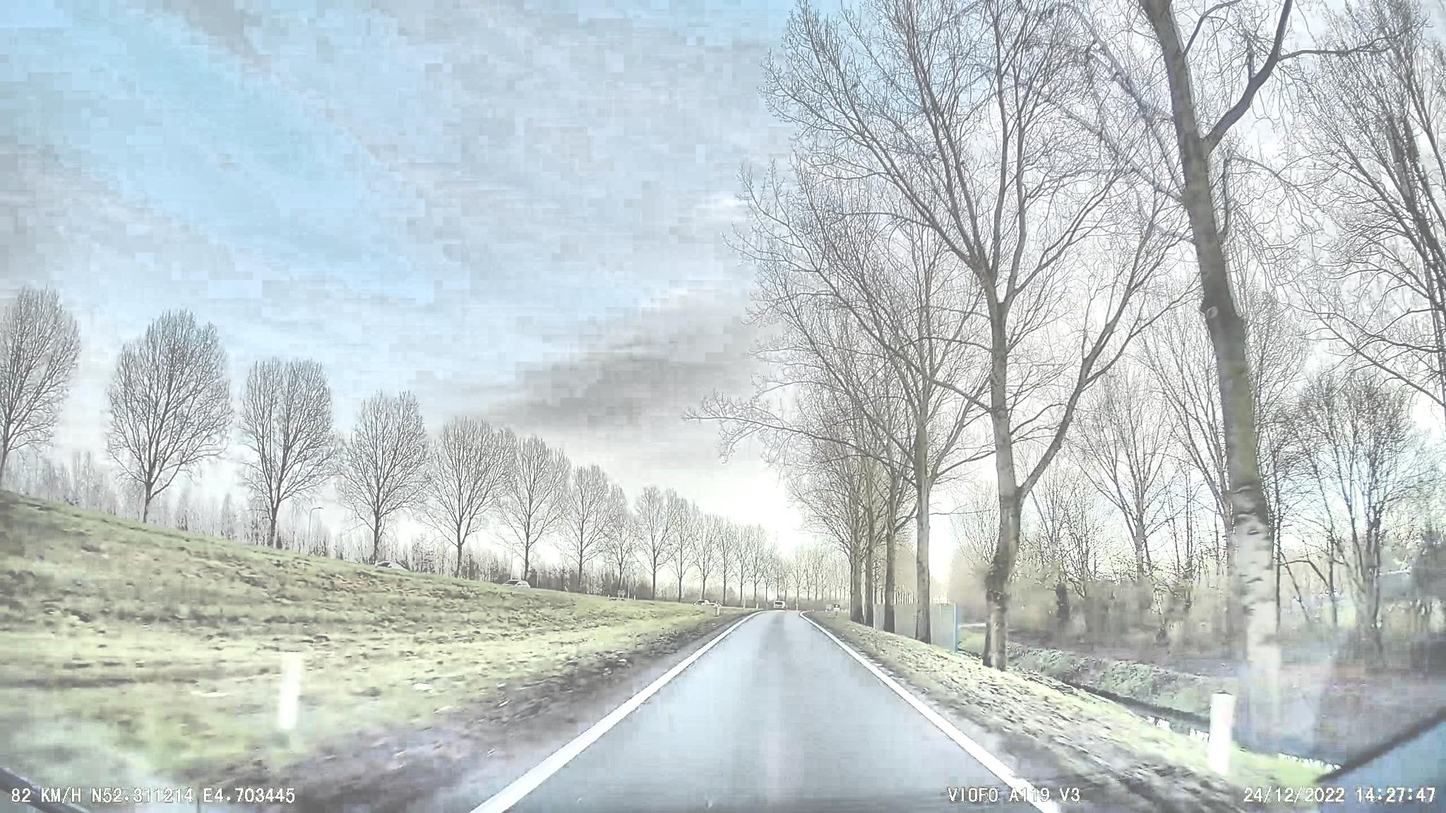Roads: (398, 611, 1166, 813)
